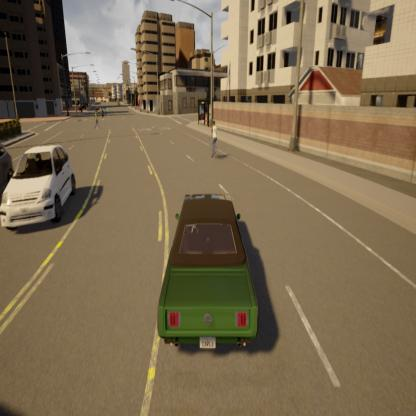Cars: (151, 175, 265, 360), (0, 111, 76, 243)
Pedestrian: (92, 106, 100, 134)
